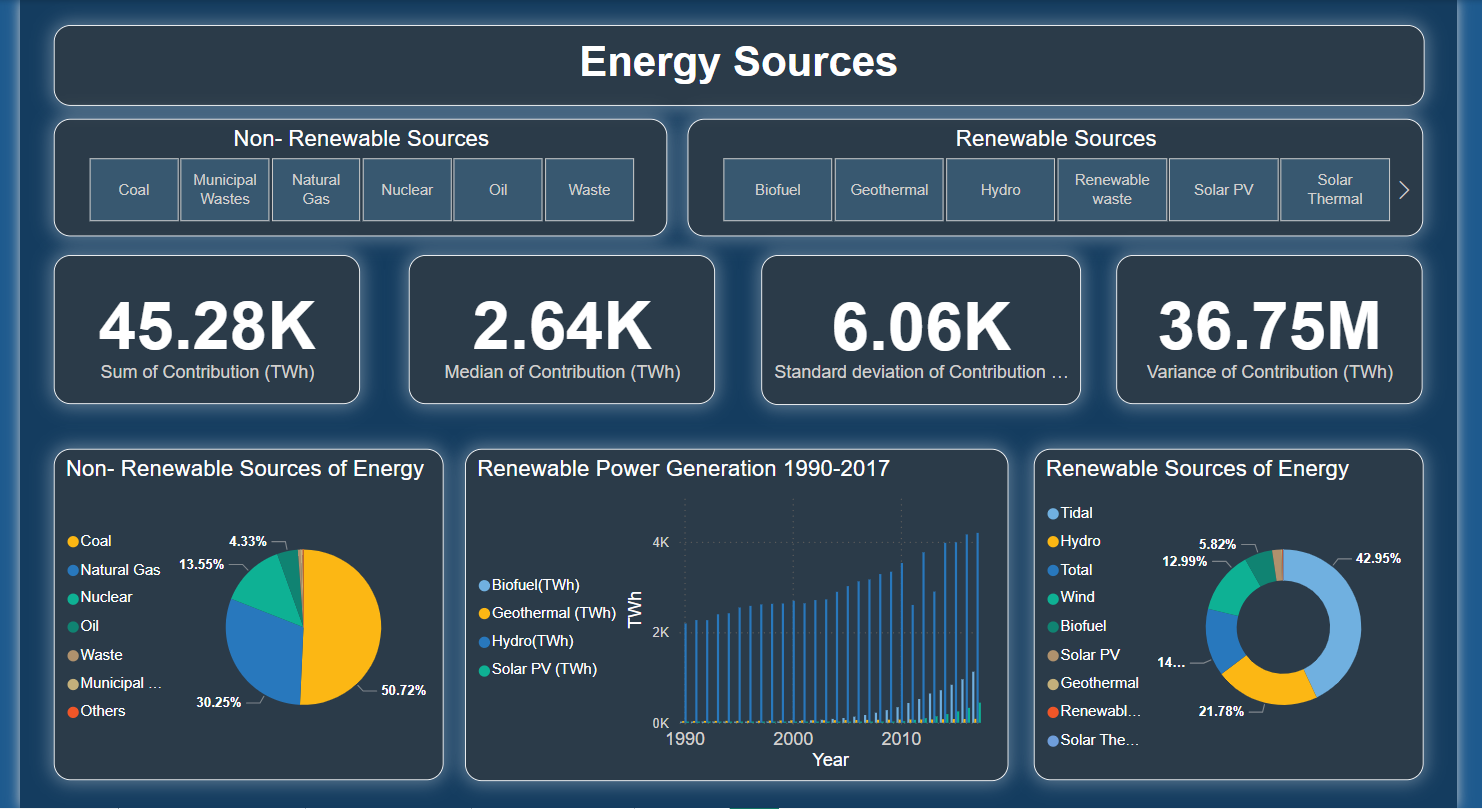

The dashboard page shown, as its layout file describes it:
{"tool":"powerbi","page":{"name":"Source of Energy","canvas":[1280,720],"ordinal":1},"visuals":[{"type":"textbox","box":[29.9,21.7,1220.5,72],"z":0},{"type":"pieChart","title":"Non- Renewable Sources of Energy","fields":{"Category":["nonRenewablesTotalPowerGeneration.Mode of Generation"],"Y":["Sum(nonRenewablesTotalPowerGeneration.Contribution (TWh))"]},"box":[30.2,399.3,347.2,295],"z":1000},{"type":"donutChart","title":" Renewable Sources of Energy","fields":{"Y":["Sum(renewablesTotalPowerGeneration.Contribution (TWh))"],"Category":["renewablesTotalPowerGeneration.Mode of Generation"]},"box":[902.9,399.3,347.2,295],"z":2000},{"type":"clusteredColumnChart","title":" Renewable Power Generation 1990-2017","fields":{"Category":["renewablePowerGeneration97-17.Year"],"Y":["Sum(renewablePowerGeneration97-17.Biofuel(TWh))","Sum(renewablePowerGeneration97-17.Geothermal (TWh))","Sum(renewablePowerGeneration97-17.Hydro(TWh))","Sum(renewablePowerGeneration97-17.Solar PV (TWh))"]},"box":[396.6,399.3,484.4,296.4],"z":3000},{"type":"slicer","title":"Non- Renewable Sources","fields":{"Values":["nonRenewablesTotalPowerGeneration.Mode of Generation"]},"box":[29.9,106,546.4,104.7],"z":4000},{"type":"slicer","title":"Renewable Sources","fields":{"Values":["renewablesTotalPowerGeneration.Mode of Generation"]},"box":[593.9,106,655.1,104.7],"z":5000},{"type":"card","fields":{"Values":["Sum(renewablesTotalPowerGeneration.Contribution (TWh))"]},"box":[29.9,227,273.2,133.2],"z":6000},{"type":"card","fields":{"Values":["Median(renewablesTotalPowerGeneration.Contribution (TWh))"]},"box":[346.6,227,273.2,133.2],"z":7000},{"type":"card","fields":{"Values":["Sum(renewablesTotalPowerGeneration.Contribution (TWh))"]},"box":[660.1,227.1,285,133.6],"z":8000},{"type":"card","fields":{"Values":["Sum(renewablesTotalPowerGeneration.Contribution (TWh))"]},"box":[975.8,227,273.2,133.2],"z":9000}]}

Visuals, with their boxes on the page's 1280x720 design canvas (x1, y1, x2, y2). These are canvas units, not pixel positions in the 1482x809 screenshot, which may show the page scaled, cropped or inside an application window:
textbox: 30:22:1250:94
"Non- Renewable Sources of Energy" pieChart: 30:399:377:694
" Renewable Sources of Energy" donutChart: 903:399:1250:694
" Renewable Power Generation 1990-2017" clusteredColumnChart: 397:399:881:696
"Non- Renewable Sources" slicer: 30:106:576:211
"Renewable Sources" slicer: 594:106:1249:211
card - Sum(renewablesTotalPowerGeneration.Contribution (TWh)): 30:227:303:360
card - Median(renewablesTotalPowerGeneration.Contribution (TWh)): 347:227:620:360
card - Sum(renewablesTotalPowerGeneration.Contribution (TWh)): 660:227:945:361
card - Sum(renewablesTotalPowerGeneration.Contribution (TWh)): 976:227:1249:360
